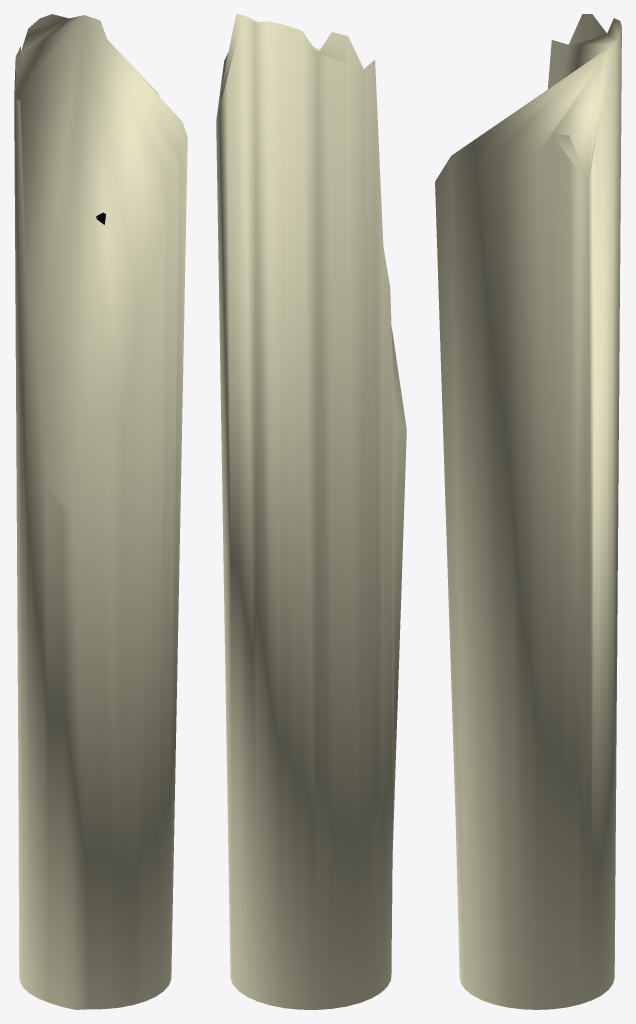
Rendered from candle_m4.fbx.
The picture shows the model from 3 angles, left to right: view 1: azimuth 30°, elevation 25°; view 2: azimuth 150°, elevation 25°; view 3: azimuth 270°, elevation 25°; orthographic projection. The views are drawn at different scales.
Parts seen in each view (by area): view 1: Candle; view 2: Candle; view 3: Candle.
Part boxes in pixels (x1=…): Candle: x1=14, y1=14, x2=187, y2=1009; Candle: x1=216, y1=14, x2=406, y2=1009; Candle: x1=435, y1=14, x2=621, y2=1009.
Size of the model in its own units: 0.1445 by 0.1279 by 0.8114.
